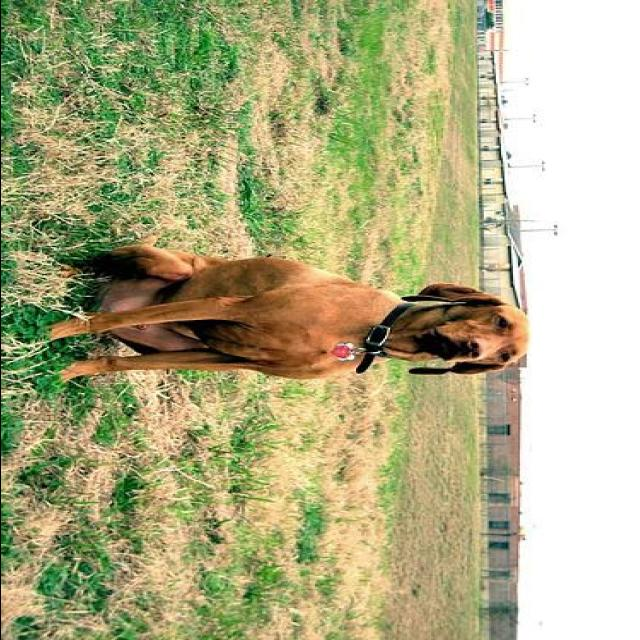vizsla: (49, 244, 530, 388)
